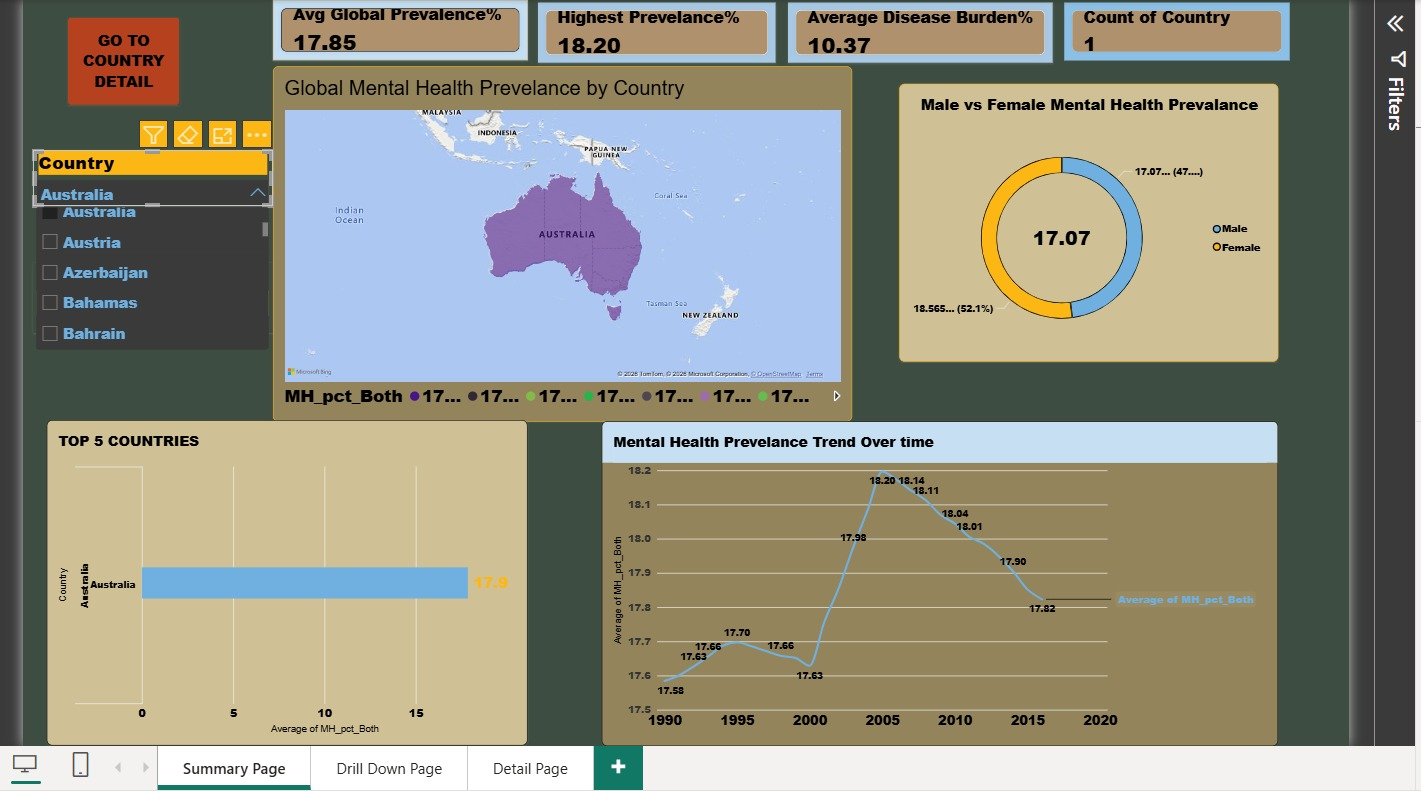

Layout of this report page (visuals, bound fields, positions):
{"tool":"powerbi","page":{"name":"Summary Page","canvas":[1920,1080],"ordinal":0},"visuals":[{"type":"filledMap","title":"Global Mental Health Prevelance by Country","fields":{"Category":["mental_health_disorder_prevalen.Country"],"Series":["mental_health_disorder_prevalen.MH_pct_Both"]},"box":[361.2,95.9,838.8,514.3],"z":0},{"type":"cardVisual","fields":{"Data":["Avg(mental_health_disorder_prevalen.MH_pct_Both)"]},"box":[361.2,0,369.4,87.8],"z":1000},{"type":"cardVisual","fields":{"Data":["Max(mental_health_disorder_prevalen.MH_pct_Both)"]},"box":[744.9,4.1,344.9,87.8],"z":2000},{"type":"cardVisual","fields":{"Data":["Avg(mental_health_disorder_prevalen.MH_DALY_Pct)"]},"box":[1108.2,4.1,383.7,87.8],"z":3000},{"type":"lineChart","title":"Mental Health Prevelance Trend Over time ","fields":{"Category":["mental_health_disorder_prevalen.Year"],"Y":["Avg(mental_health_disorder_prevalen.MH_pct_Both)"]},"box":[837.9,609.9,979,470.5],"z":4000},{"type":"clusteredBarChart","title":"TOP 5 COUNTRIES","fields":{"Category":["mental_health_disorder_prevalen.Country","mental_health_disorder_prevalen.Country"],"Y":["Avg(mental_health_disorder_prevalen.MH_pct_Both)"]},"box":[34.7,608.2,695.9,471.4],"z":5000},{"type":"slicer","fields":{"Values":["mental_health_disorder_prevalen.Year"]},"box":[14.3,379.6,346.9,102],"z":6000},{"type":"slicer","fields":{"Values":["mental_health_disorder_prevalen.Country"]},"box":[14.3,216.3,346.9,81.6],"z":7000},{"type":"donutChart","title":"Male vs Female Mental Health Prevalance","fields":{"Y":["Avg(mental_health_disorder_prevalen.MH_Pct_Male)","Avg(mental_health_disorder_prevalen.MH_Pct_Female)"]},"box":[1269.4,120.4,549,402],"z":8000},{"type":"cardVisual","fields":{"Data":["Count(mental_health_disorder_prevalen.Country)"]},"box":[1508.2,4.1,326.5,83.7],"z":9000},{"type":"actionButton","box":[65.3,24.5,161.2,126.5],"z":10000}]}

Visuals, with their boxes on the page's 1920x1080 design canvas (x1, y1, x2, y2). These are canvas units, not pixel positions in the 1421x791 screenshot, which may show the page scaled, cropped or inside an application window:
"Global Mental Health Prevelance by Country" filledMap: {"x1": 361, "y1": 96, "x2": 1200, "y2": 610}
cardVisual - Avg(mental_health_disorder_prevalen.MH_pct_Both): {"x1": 361, "y1": 0, "x2": 731, "y2": 88}
cardVisual - Max(mental_health_disorder_prevalen.MH_pct_Both): {"x1": 745, "y1": 4, "x2": 1090, "y2": 92}
cardVisual - Avg(mental_health_disorder_prevalen.MH_DALY_Pct): {"x1": 1108, "y1": 4, "x2": 1492, "y2": 92}
"Mental Health Prevelance Trend Over time " lineChart: {"x1": 838, "y1": 610, "x2": 1817, "y2": 1080}
"TOP 5 COUNTRIES" clusteredBarChart: {"x1": 35, "y1": 608, "x2": 731, "y2": 1080}
slicer - mental_health_disorder_prevalen.Year: {"x1": 14, "y1": 380, "x2": 361, "y2": 482}
slicer - mental_health_disorder_prevalen.Country: {"x1": 14, "y1": 216, "x2": 361, "y2": 298}
"Male vs Female Mental Health Prevalance" donutChart: {"x1": 1269, "y1": 120, "x2": 1818, "y2": 522}
cardVisual - Count(mental_health_disorder_prevalen.Country): {"x1": 1508, "y1": 4, "x2": 1835, "y2": 88}
actionButton: {"x1": 65, "y1": 24, "x2": 226, "y2": 151}
